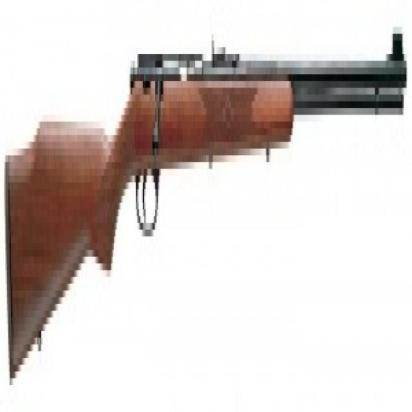Gun: (4, 19, 409, 397)
